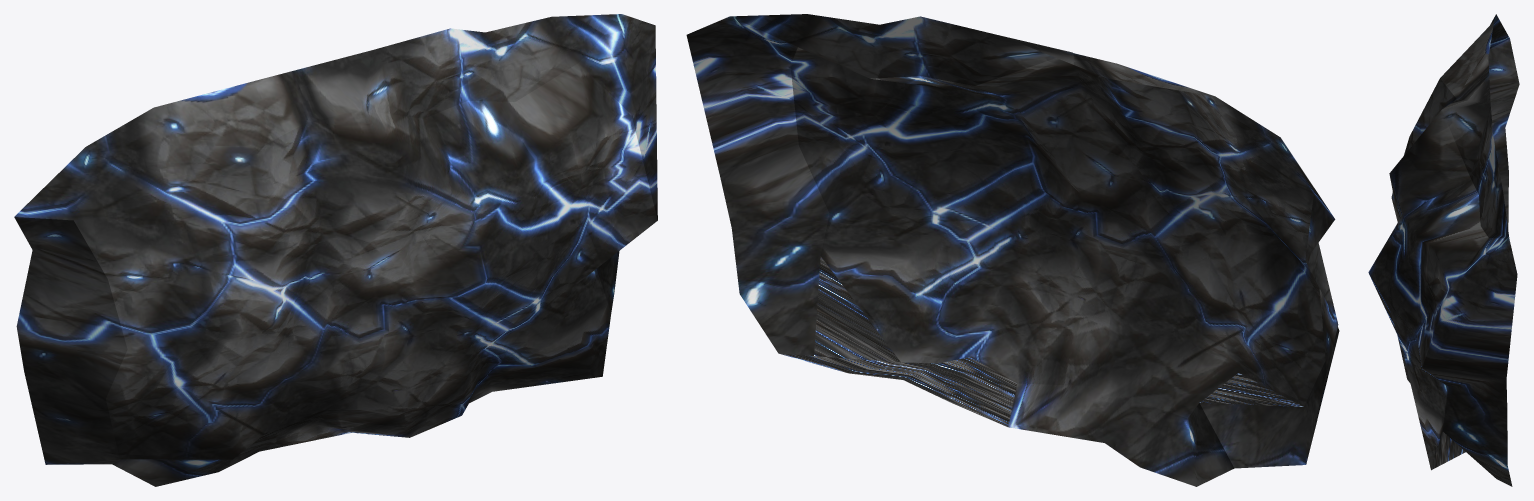
File: boulder_3.FBX
The picture shows the model from 3 angles, left to right: view 1: azimuth 30°, elevation 25°; view 2: azimuth 150°, elevation 25°; view 3: azimuth 270°, elevation 25°; orthographic projection. The views are drawn at different scales.
Parts seen in each view (by area): view 1: Box001; view 2: Box001; view 3: Box001.
Boxes of the visible parts, x1,y1,x2,y2 form: Box001: (14, 14, 657, 486); Box001: (686, 14, 1339, 486); Box001: (1368, 14, 1519, 486).
Bounding box in the file's own units: 481 × 118 × 281.
